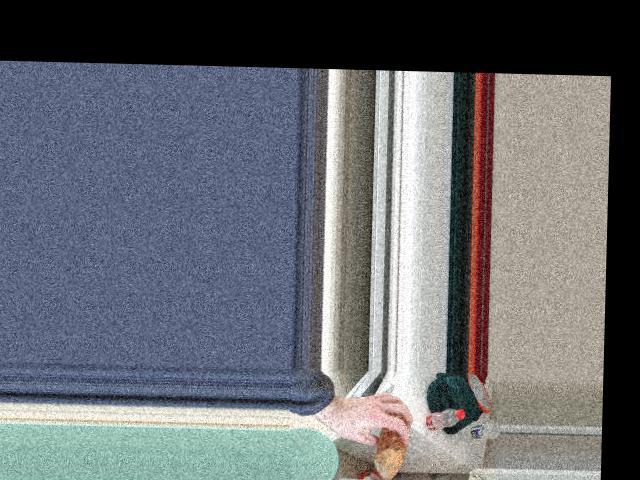sweet_potato: (380, 420, 404, 468)
